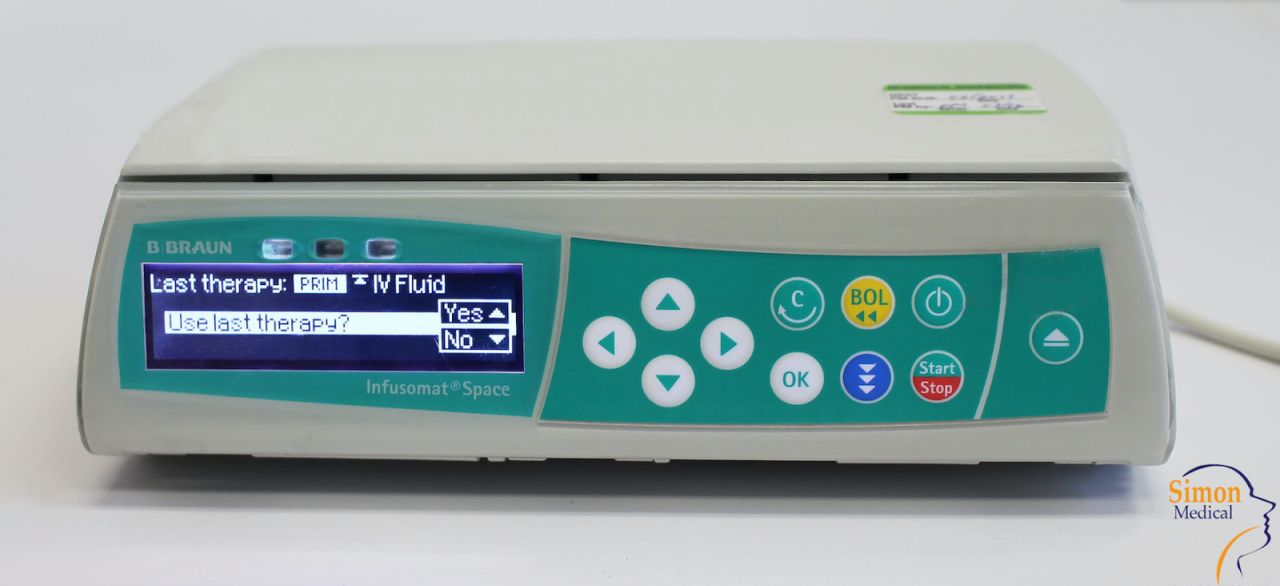BBraun Infusomat Space: (61, 32, 1184, 475)
